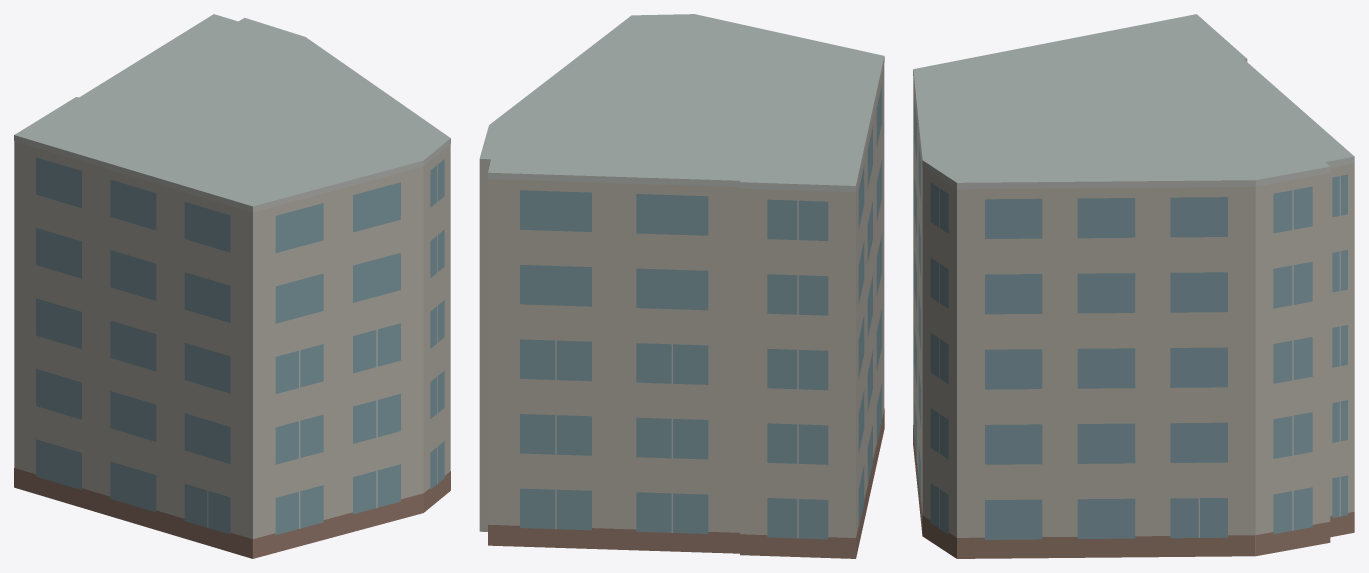
The model's file is survey-upis-32904258.glb.
The picture shows the model from 3 angles, left to right: view 1: azimuth 30°, elevation 25°; view 2: azimuth 150°, elevation 25°; view 3: azimuth 270°, elevation 25°; orthographic projection. The views are drawn at different scales.
Parts seen in each view (by area): view 1: survey-upis-32904258.tmp; view 2: survey-upis-32904258.tmp; view 3: survey-upis-32904258.tmp.
Part boxes in pixels (x1,y1,x2,y2): survey-upis-32904258.tmp: (14, 14, 450, 558); survey-upis-32904258.tmp: (479, 14, 884, 558); survey-upis-32904258.tmp: (913, 14, 1354, 558).
Size of the model in its own units: 13.78 by 14.3 by 15.23.
